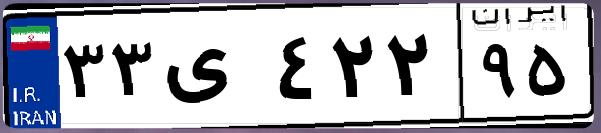2: (385, 28, 445, 110), (330, 28, 385, 110)
3: (57, 26, 110, 100), (110, 28, 158, 98)
4: (270, 28, 330, 110)
5: (525, 38, 570, 115)
9: (475, 38, 525, 113)
ی: (158, 20, 270, 120)
